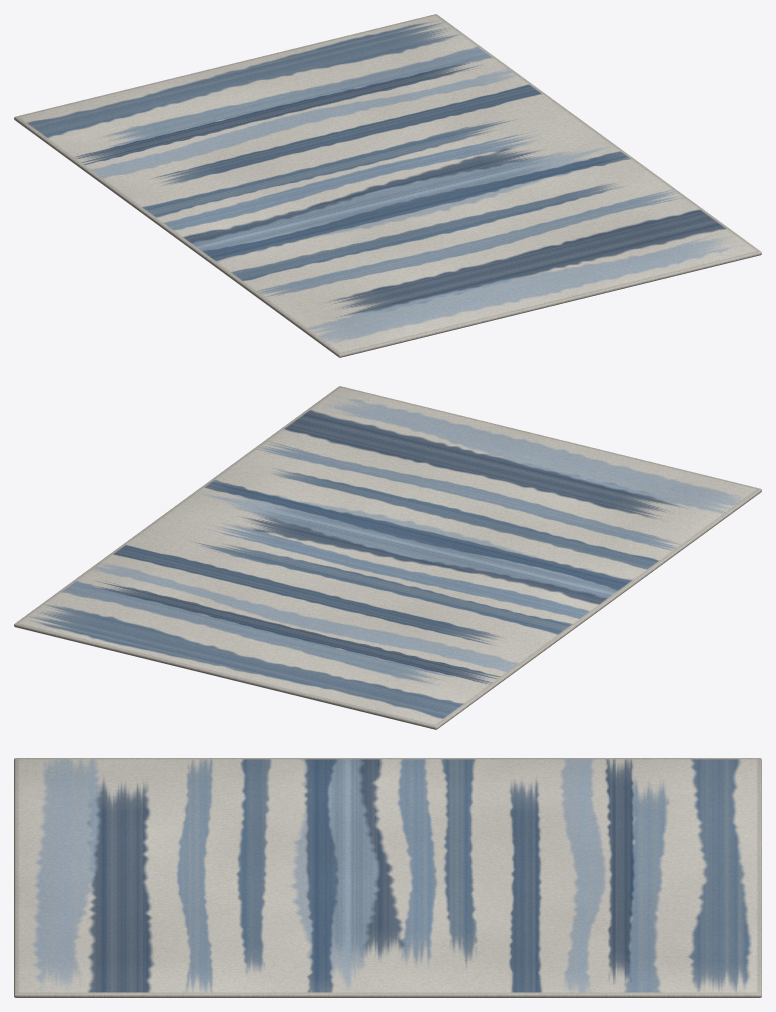
Rendered from rug-motion-wall-denim.39edfb37.glb.
3 views of the same model, one above another, from view 1: azimuth 30°, elevation 25°; view 2: azimuth 150°, elevation 25°; view 3: azimuth 270°, elevation 25° (orthographic). The views are drawn at different scales.
Visible parts, largest first — view 1: rug-motion-wall-denim; view 2: rug-motion-wall-denim; view 3: rug-motion-wall-denim.
Boxes of the visible parts, box(x1,y1,x2,y2) form: rug-motion-wall-denim: box(14, 14, 761, 357); rug-motion-wall-denim: box(14, 386, 761, 729); rug-motion-wall-denim: box(14, 758, 761, 997).
Size of the model in its own units: 1.35 by 0.011 by 1.8.
1 material, 1 textured.
